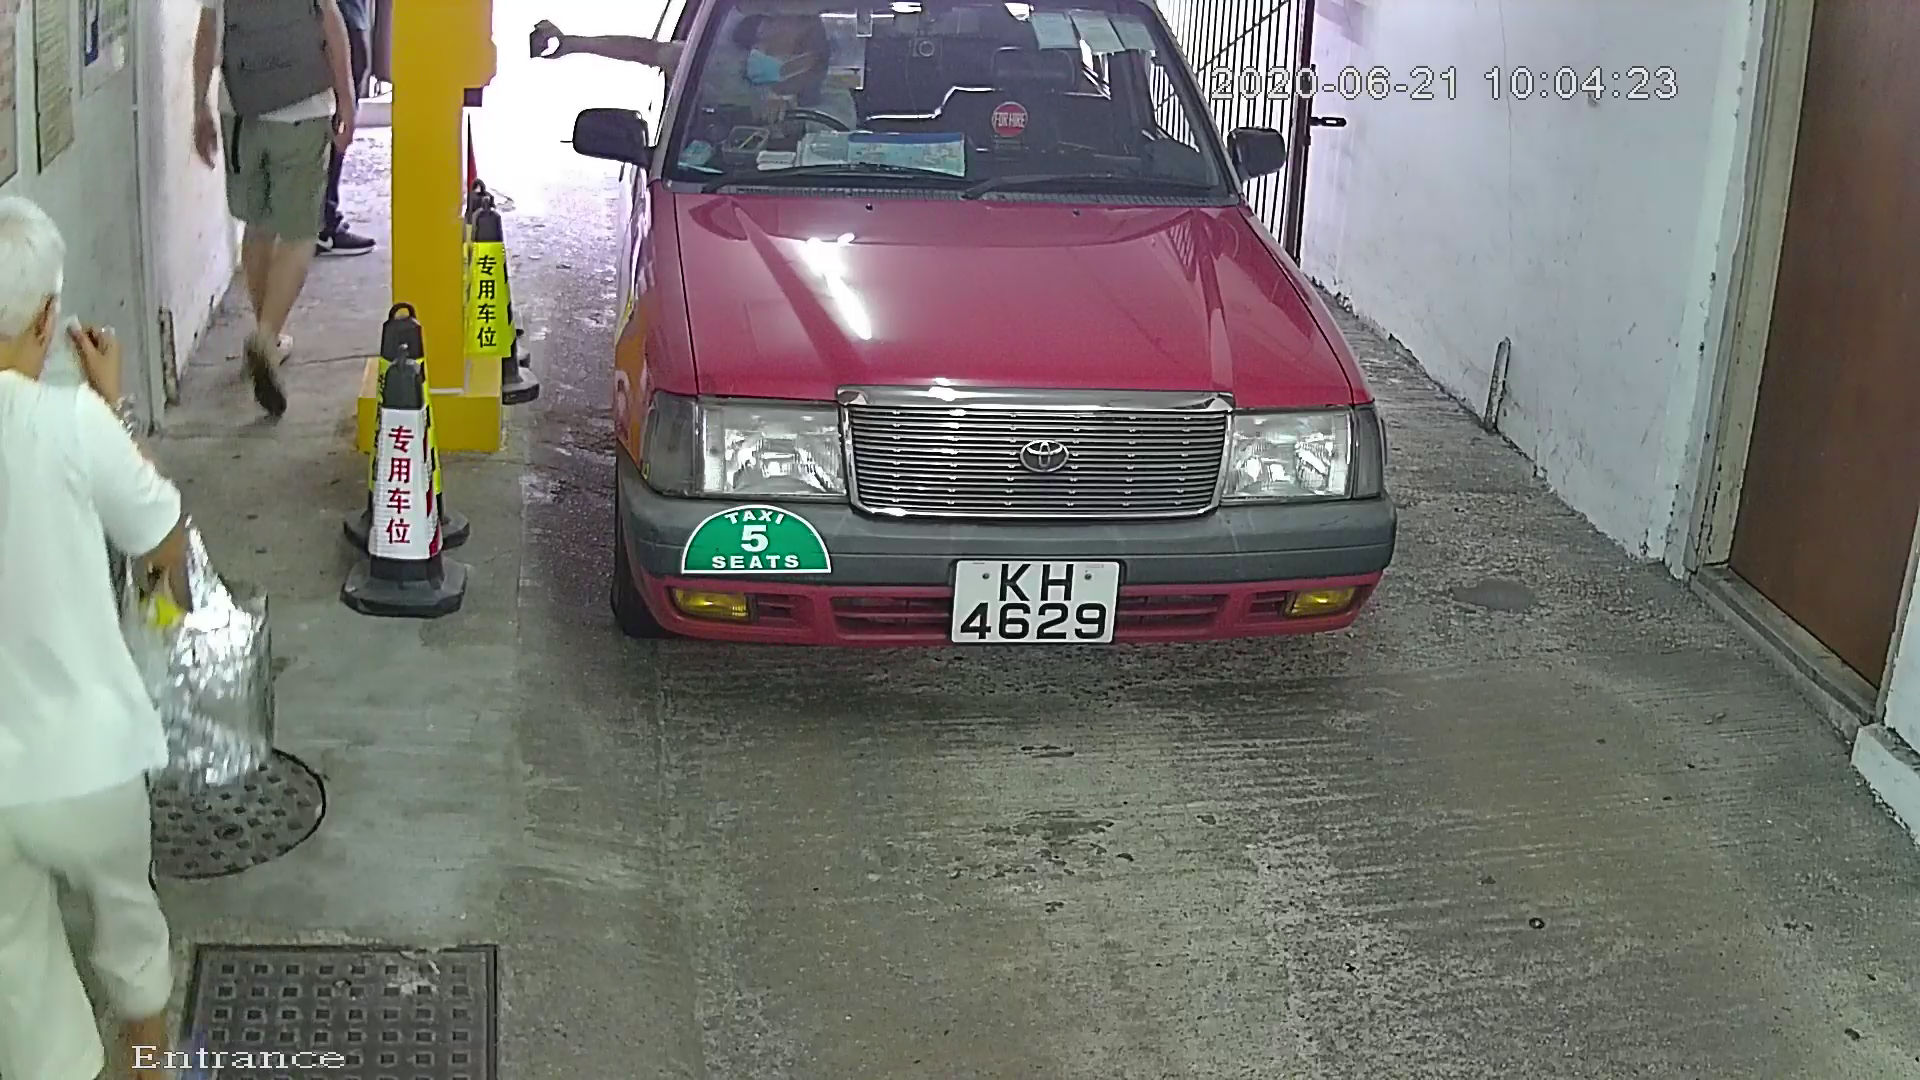taxi: (547, 3, 1435, 795)
taxi_mark: (679, 484, 861, 615)
